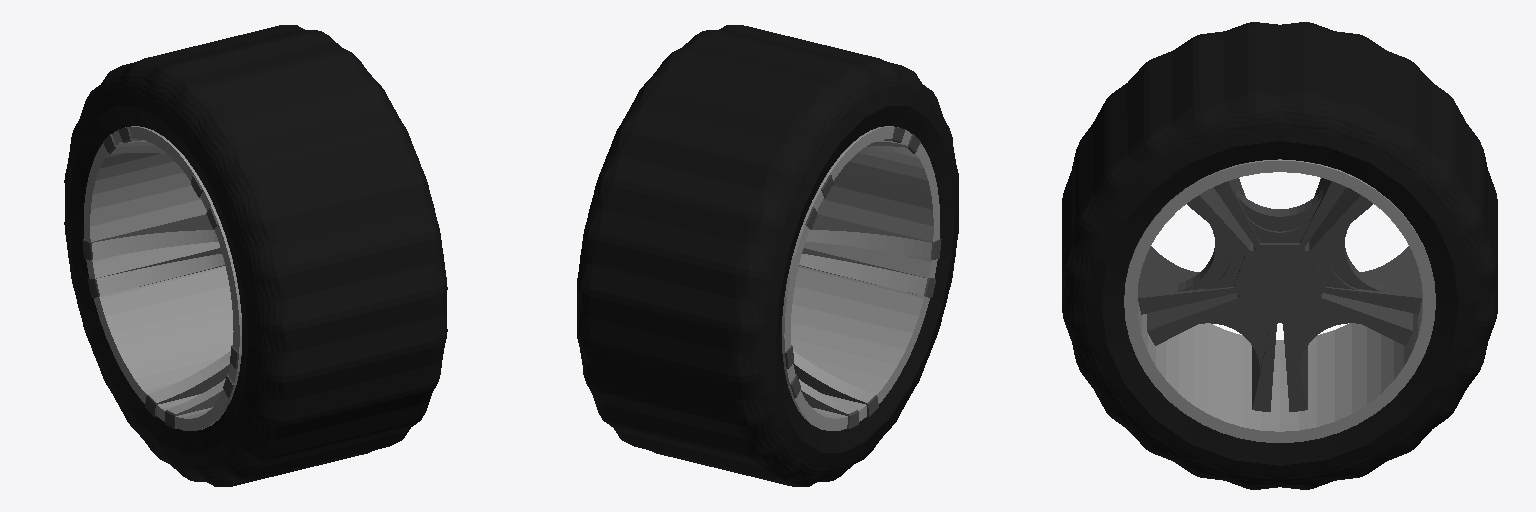
File: truck_wheel.obj
3 renders of one model, left to right at view 1: azimuth 30°, elevation 25°; view 2: azimuth 150°, elevation 25°; view 3: azimuth 270°, elevation 25°, orthographic.
Visible parts, largest first — view 1: Mesh7_Group5_Model_Mesh7_Group5_Model_Color_007_Mesh7_Group5_Mo, Mesh4_Group4_Model_Mesh4_Group4_Model_Color_007_Mesh4_Group4_Mo, Mesh3_Group3_Model_Mesh3_Group3_Model_Color_003_Mesh3_Group3_Mo, Mesh2_Group2_Model_Mesh2_Group2_Model_Metal_Aluminum_Anodized_M, Mesh6_Group4_Model_Mesh6_Group4_Model_Color_007_Mesh6_Group4_Mo, Mesh2_Group2_Model_Mesh2_Group2_Model__Gray6__Mesh2_Group2_Mode; view 2: Mesh7_Group5_Model_Mesh7_Group5_Model_Color_007_Mesh7_Group5_Mo, Mesh4_Group4_Model_Mesh4_Group4_Model_Color_007_Mesh4_Group4_Mo, Mesh3_Group3_Model_Mesh3_Group3_Model_Color_003_Mesh3_Group3_Mo, Mesh2_Group2_Model_Mesh2_Group2_Model_Metal_Aluminum_Anodized_M, Mesh6_Group4_Model_Mesh6_Group4_Model_Color_007_Mesh6_Group4_Mo, Mesh2_Group2_Model_Mesh2_Group2_Model__Gray6__Mesh2_Group2_Mode; view 3: Mesh6_Group4_Model_Mesh6_Group4_Model_Color_007_Mesh6_Group4_Mo, Mesh2_Group2_Model_Mesh2_Group2_Model__Gray6__Mesh2_Group2_Mode, Mesh7_Group5_Model_Mesh7_Group5_Model_Color_007_Mesh7_Group5_Mo, Mesh3_Group3_Model_Mesh3_Group3_Model_Color_003_Mesh3_Group3_Mo, Mesh5_Group4_Model_Mesh5_Group4_Model_Color_007_Mesh5_Group4_Mo, Mesh4_Group4_Model_Mesh4_Group4_Model_Color_007_Mesh4_Group4_Mo.
Boxes of the visible parts, <box> form: Mesh7_Group5_Model_Mesh7_Group5_Model_Color_007_Mesh7_Group5_Mo: <box>126,25,435,486</box>; Mesh4_Group4_Model_Mesh4_Group4_Model_Color_007_Mesh4_Group4_Mo: <box>64,59,296,486</box>; Mesh3_Group3_Model_Mesh3_Group3_Model_Color_003_Mesh3_Group3_Mo: <box>84,126,241,430</box>; Mesh2_Group2_Model_Mesh2_Group2_Model_Metal_Aluminum_Anodized_M: <box>92,140,230,413</box>; Mesh6_Group4_Model_Mesh6_Group4_Model_Color_007_Mesh6_Group4_Mo: <box>286,25,447,445</box>; Mesh2_Group2_Model_Mesh2_Group2_Model__Gray6__Mesh2_Group2_Mode: <box>82,127,238,428</box>; Mesh7_Group5_Model_Mesh7_Group5_Model_Color_007_Mesh7_Group5_Mo: <box>588,25,897,485</box>; Mesh4_Group4_Model_Mesh4_Group4_Model_Color_007_Mesh4_Group4_Mo: <box>728,58,958,486</box>; Mesh3_Group3_Model_Mesh3_Group3_Model_Color_003_Mesh3_Group3_Mo: <box>782,126,939,430</box>; Mesh2_Group2_Model_Mesh2_Group2_Model_Metal_Aluminum_Anodized_M: <box>793,140,931,413</box>; Mesh6_Group4_Model_Mesh6_Group4_Model_Color_007_Mesh6_Group4_Mo: <box>577,25,737,445</box>; Mesh2_Group2_Model_Mesh2_Group2_Model__Gray6__Mesh2_Group2_Mode: <box>785,127,941,428</box>; Mesh6_Group4_Model_Mesh6_Group4_Model_Color_007_Mesh6_Group4_Mo: <box>1062,92,1497,489</box>; Mesh2_Group2_Model_Mesh2_Group2_Model__Gray6__Mesh2_Group2_Mode: <box>1138,178,1421,411</box>; Mesh7_Group5_Model_Mesh7_Group5_Model_Color_007_Mesh7_Group5_Mo: <box>1062,25,1497,309</box>; Mesh3_Group3_Model_Mesh3_Group3_Model_Color_003_Mesh3_Group3_Mo: <box>1124,159,1435,442</box>; Mesh5_Group4_Model_Mesh5_Group4_Model_Color_007_Mesh5_Group4_Mo: <box>1101,141,1458,465</box>; Mesh4_Group4_Model_Mesh4_Group4_Model_Color_007_Mesh4_Group4_Mo: <box>1079,22,1480,142</box>.
Size of the model in its own units: 0.6868 by 1.33 by 1.33.